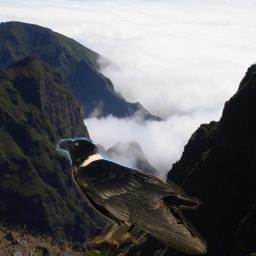Crow: (56, 135, 207, 254)
